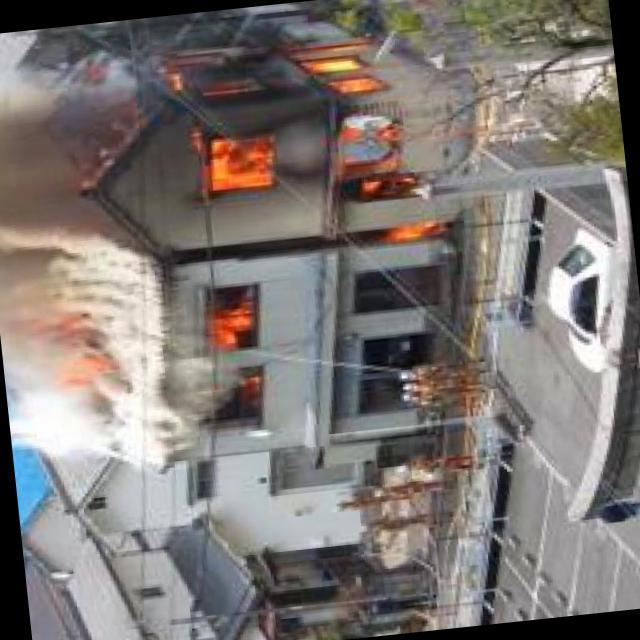Fire: (131, 7, 447, 273), (8, 289, 123, 427), (186, 271, 275, 440)
